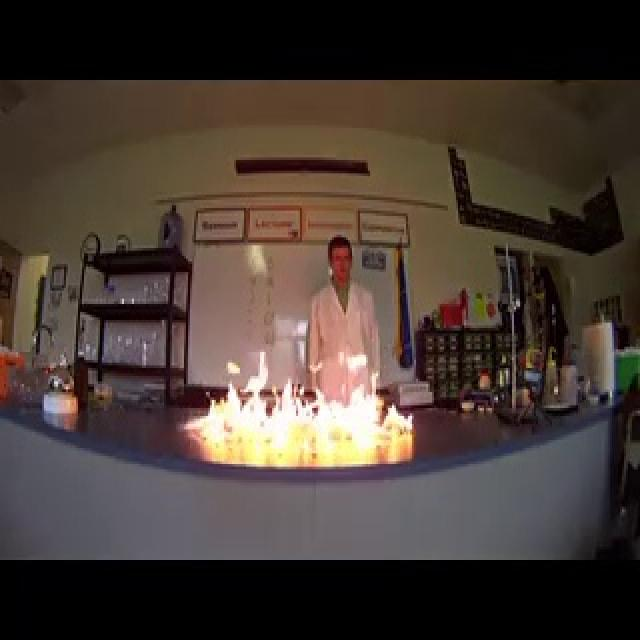fire: (179, 348, 419, 448)
